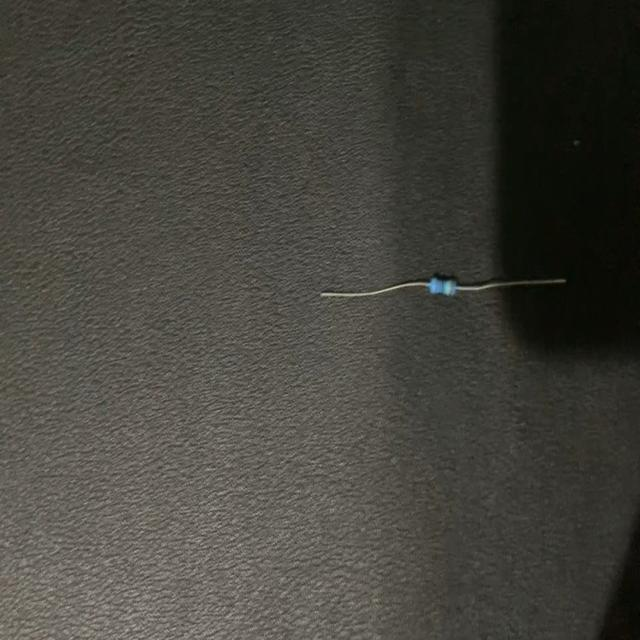resistor: (319, 268, 569, 304)
